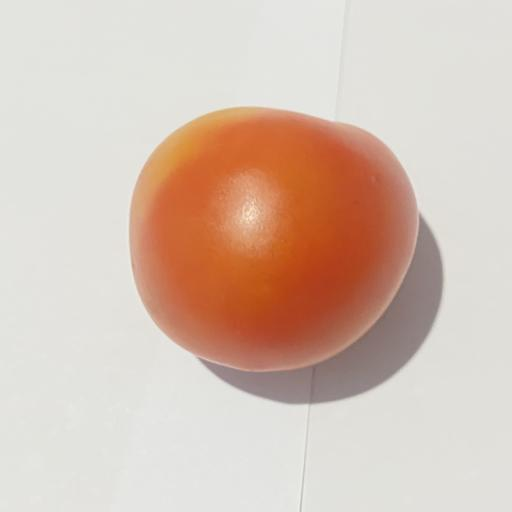ripe: (130, 108, 418, 371)
